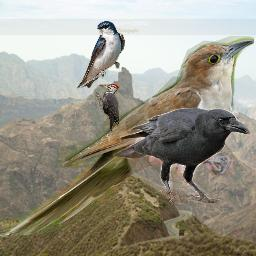Crow: (113, 108, 250, 203)
Cuckoo: (1, 36, 254, 237)
Swallow: (77, 20, 125, 89)
Woodpecker: (95, 84, 120, 133)
